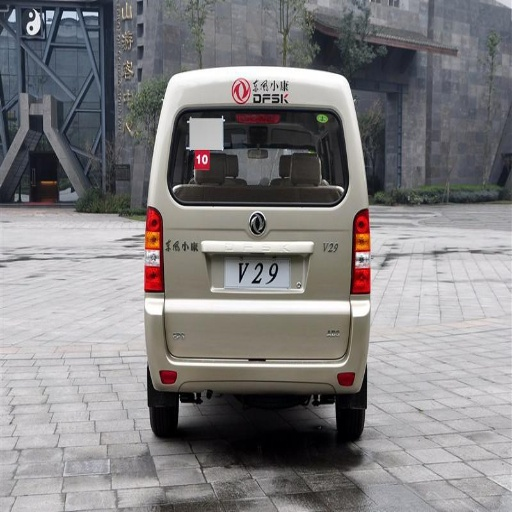back_bumper: (150, 299, 371, 394)
trunk: (165, 197, 359, 353)
